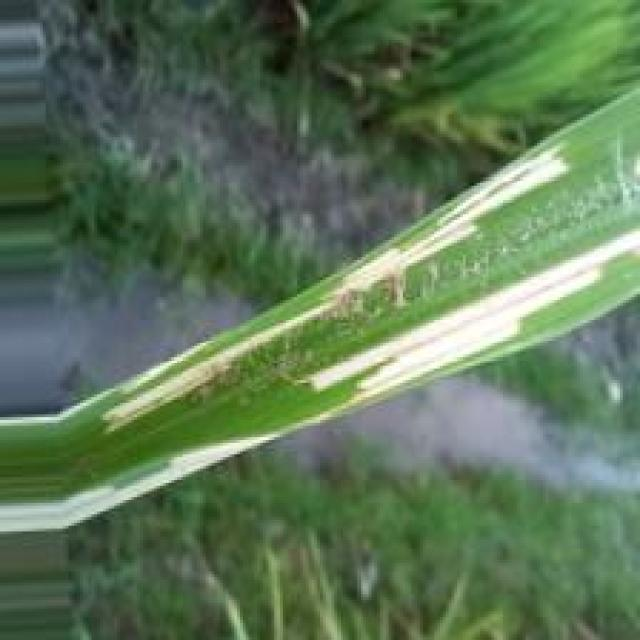Rice_Hispa: (0, 221, 640, 530), (325, 137, 573, 308), (101, 309, 330, 433)
